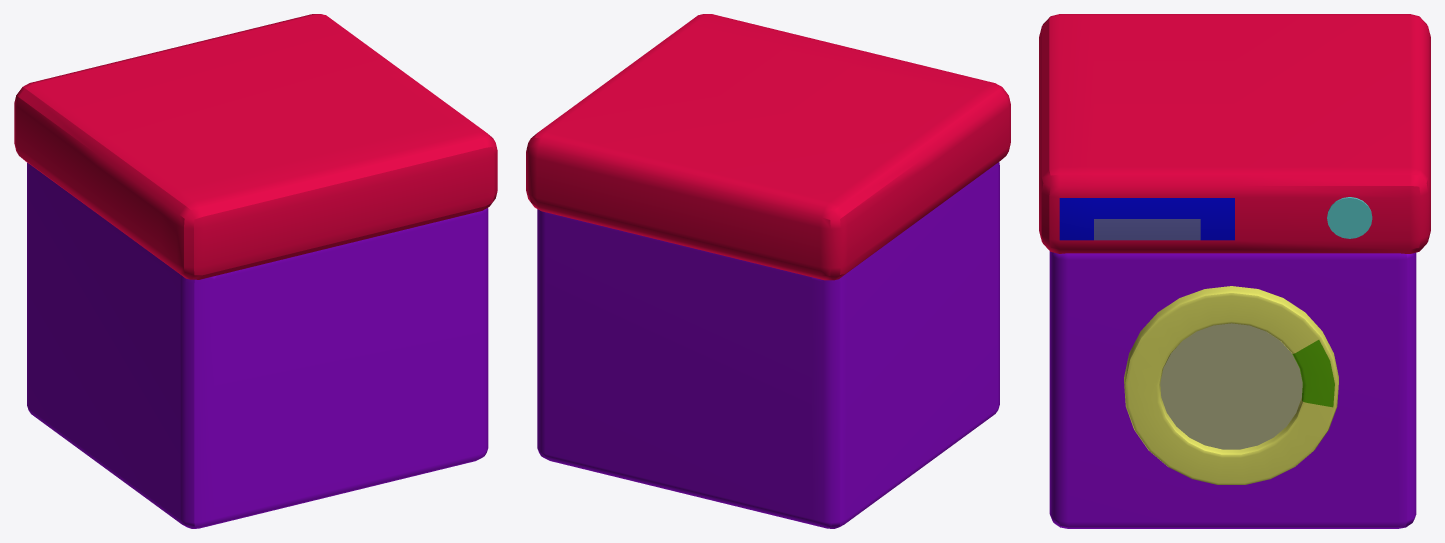
Rendered from washing_machine2.fbx.
The picture shows the model from 3 angles, left to right: view 1: azimuth 30°, elevation 25°; view 2: azimuth 150°, elevation 25°; view 3: azimuth 270°, elevation 25°; orthographic projection. The views are drawn at different scales.
Visible parts, largest first — view 1: pCube39, pCube40; view 2: pCube39, pCube40; view 3: pCube40, pCube39, pPipe6, pCylinder37, pCylinder38.
Part boxes in pixels (x1,y1,x2,y2): pCube39: [27, 162, 488, 528]; pCube40: [14, 14, 497, 279]; pCube39: [537, 162, 999, 528]; pCube40: [526, 14, 1010, 280]; pCube40: [1039, 14, 1430, 253]; pCube39: [1049, 251, 1416, 528]; pPipe6: [1124, 286, 1338, 484]; pCylinder37: [1160, 323, 1302, 449]; pCylinder38: [1327, 197, 1372, 238].
Size of the model in its own units: 5.31 by 5.15 by 5.06.
